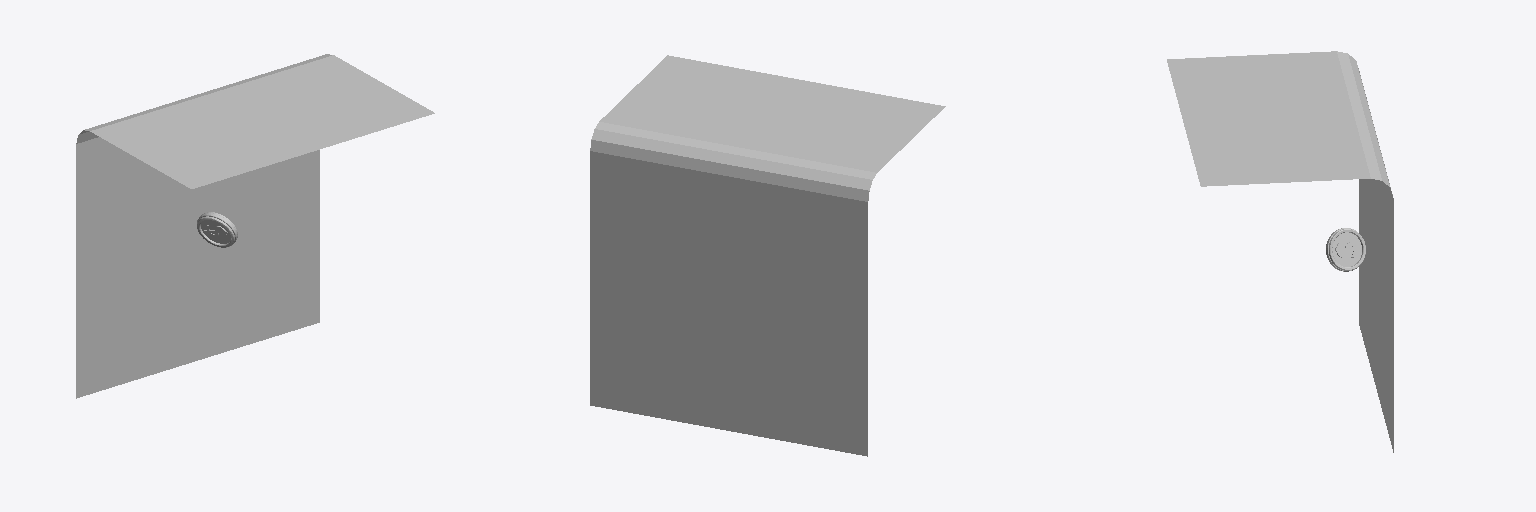
File: coin.obj
The picture shows the model from 3 angles: view 1: azimuth 30°, elevation 25°; view 2: azimuth 150°, elevation 25°; view 3: azimuth 270°, elevation 25°; orthographic projection.
Parts seen in each view (by area): view 1: Mesh; view 2: Mesh; view 3: Mesh.
Part boxes in pixels (x1,y1,x2,y2): Mesh: (76, 54, 434, 398); Mesh: (590, 55, 945, 456); Mesh: (1167, 51, 1393, 452).
Size of the model in its own units: 14.59 by 13.69 by 10.24.